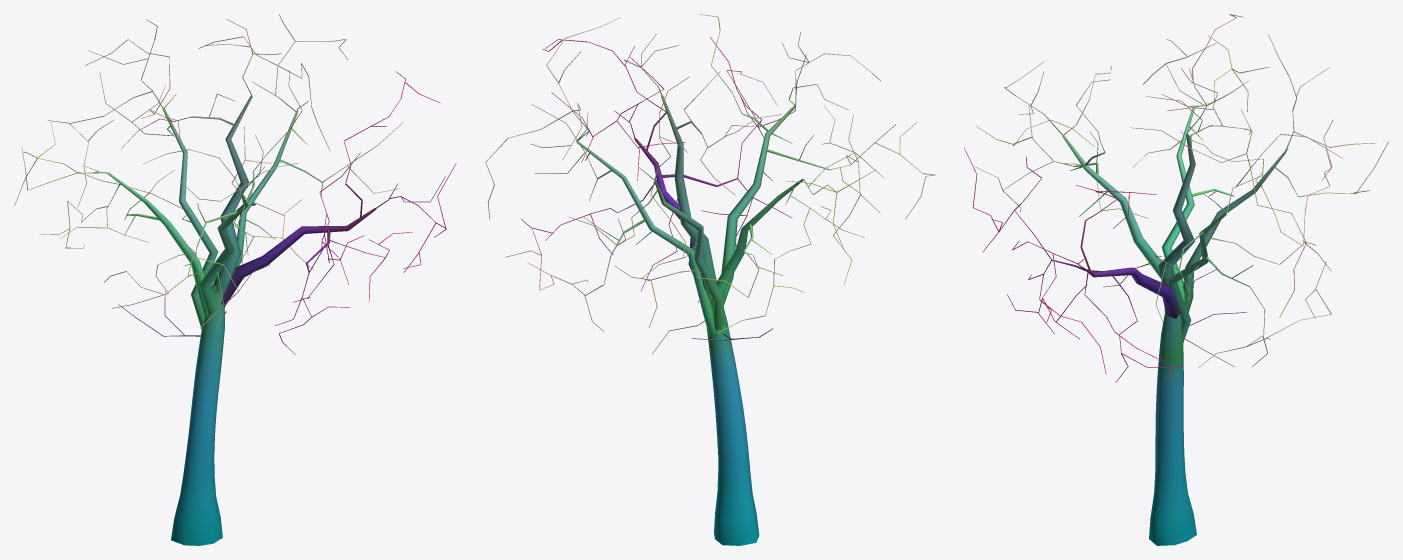
File: oak-field-b.glb
The picture shows the model from 3 angles, left to right: view 1: azimuth 30°, elevation 25°; view 2: azimuth 150°, elevation 25°; view 3: azimuth 270°, elevation 25°; orthographic projection. The views are drawn at different scales.
Parts seen in each view (by area): view 1: bark; view 2: bark; view 3: bark.
Part boxes in pixels (left/top/right/bottom): bark: left=14, top=14, right=456, bottom=545; bark: left=485, top=14, right=935, bottom=545; bark: left=964, top=14, right=1388, bottom=545.
Bounding box in the file's own units: 7.71 × 9.52 × 7.32.
